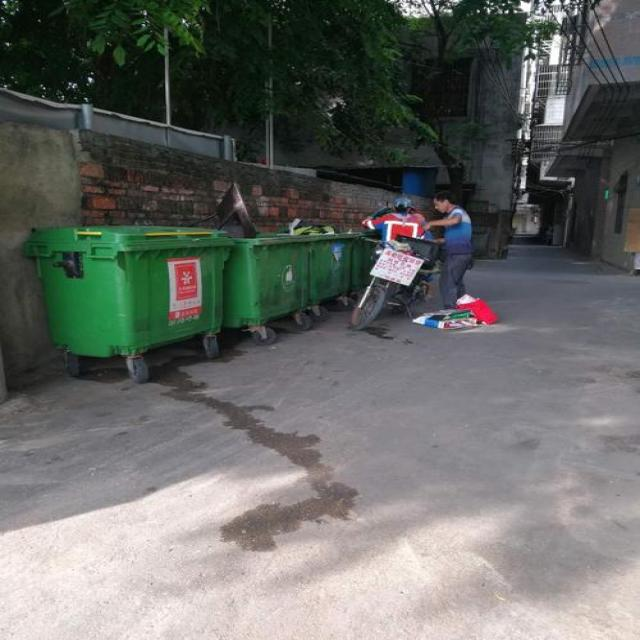garbage: (411, 294, 495, 329)
garbage_bin: (24, 224, 233, 356), (220, 237, 311, 327)
overflow: (306, 220, 357, 302)
